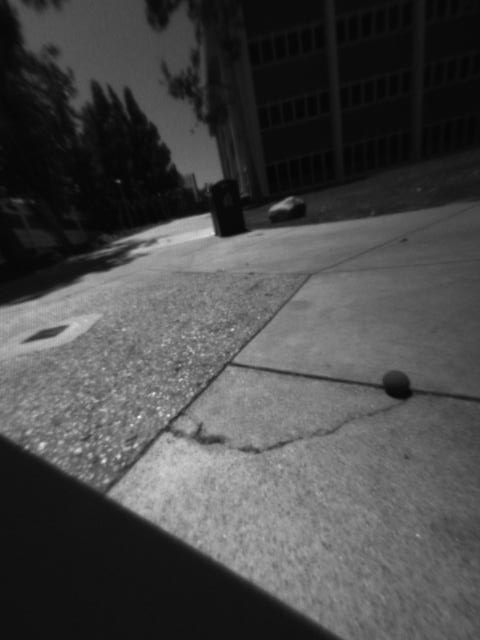dogtoy: (367, 364, 429, 408)
